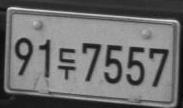1: (36, 38, 56, 78)
5: (103, 44, 123, 84), (125, 46, 145, 85)
7: (81, 42, 102, 82), (148, 47, 169, 87)
9: (13, 36, 34, 76)
두: (57, 47, 77, 80)
